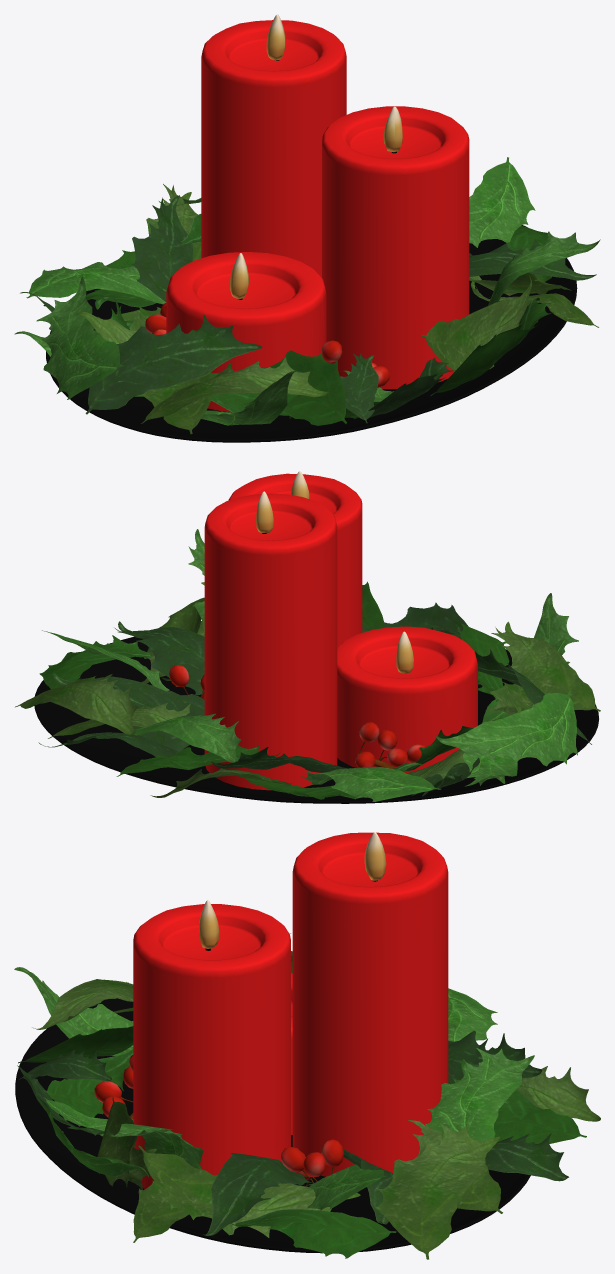
Rendered from candles.fbx.
The picture shows the model from 3 angles, top to bottom: view 1: azimuth 30°, elevation 25°; view 2: azimuth 150°, elevation 25°; view 3: azimuth 270°, elevation 25°; orthographic projection. The views are drawn at different scales.
Parts seen in each view (by area): view 1: node_id29; view 2: node_id29; view 3: node_id29.
Part boxes in pixels (bbox=[...]): node_id29: bbox=[14, 14, 600, 442]; node_id29: bbox=[15, 471, 600, 803]; node_id29: bbox=[14, 832, 600, 1259].
Size of the model in its own units: 0.512 by 0.2799 by 0.4534.
Materials: 1 (1 with a texture image).
